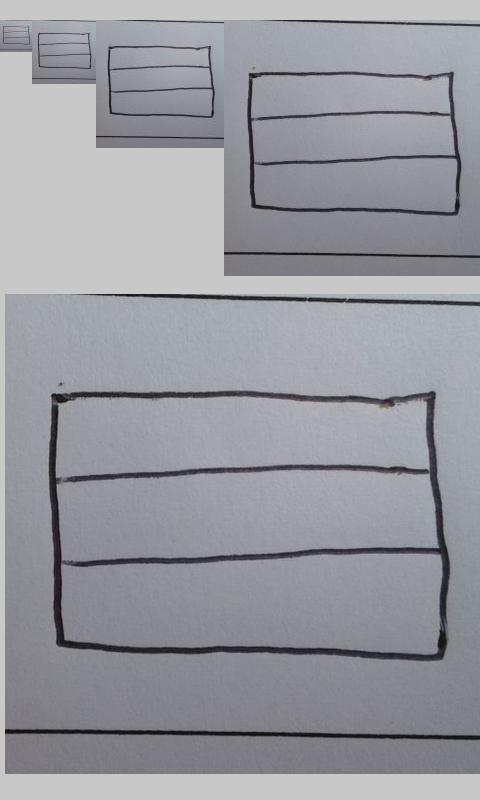list_view: (47, 387, 452, 666), (245, 69, 464, 219), (107, 45, 215, 119), (37, 32, 92, 70), (2, 25, 31, 45)
